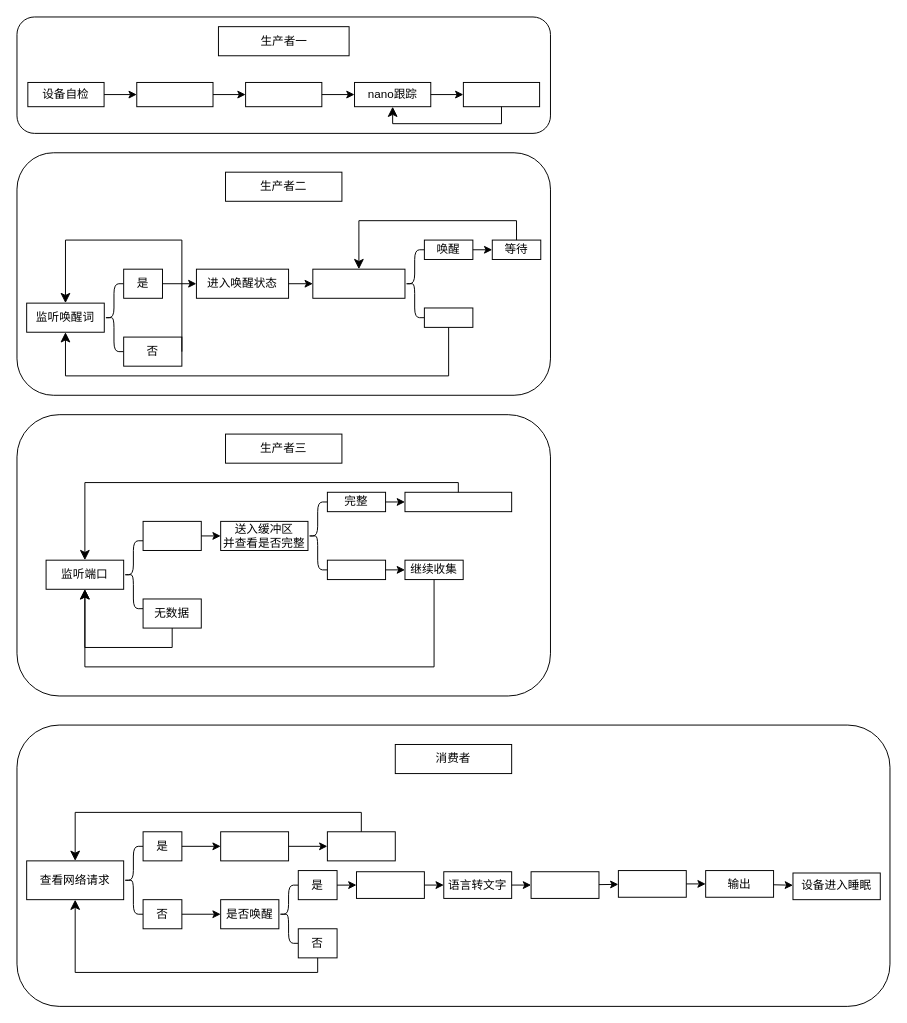
Image size: 907x1023. Some labels were removed from this diagram. The centre of each missing label's shape, as x and y in pixels:
"yolo识别" goes at pixel 174 94.
"数据写入" goes at pixel 501 94.
"文字转语音" goes at pixel 651 883.
"有数据" goes at pixel 171 535.
"未完整" goes at pixel 356 569.
"查询模块" goes at pixel 564 884.
"用户标记" goes at pixel 283 94.
"监听设备状态" goes at pixel 358 283.
"监听问题" goes at pixel 390 884.
"睡眠" goes at pixel 448 317.
"视频连接" goes at pixel 254 846.
"视频退出" goes at pixel 360 846.
"送入环形缓冲区" goes at pixel 458 501.
